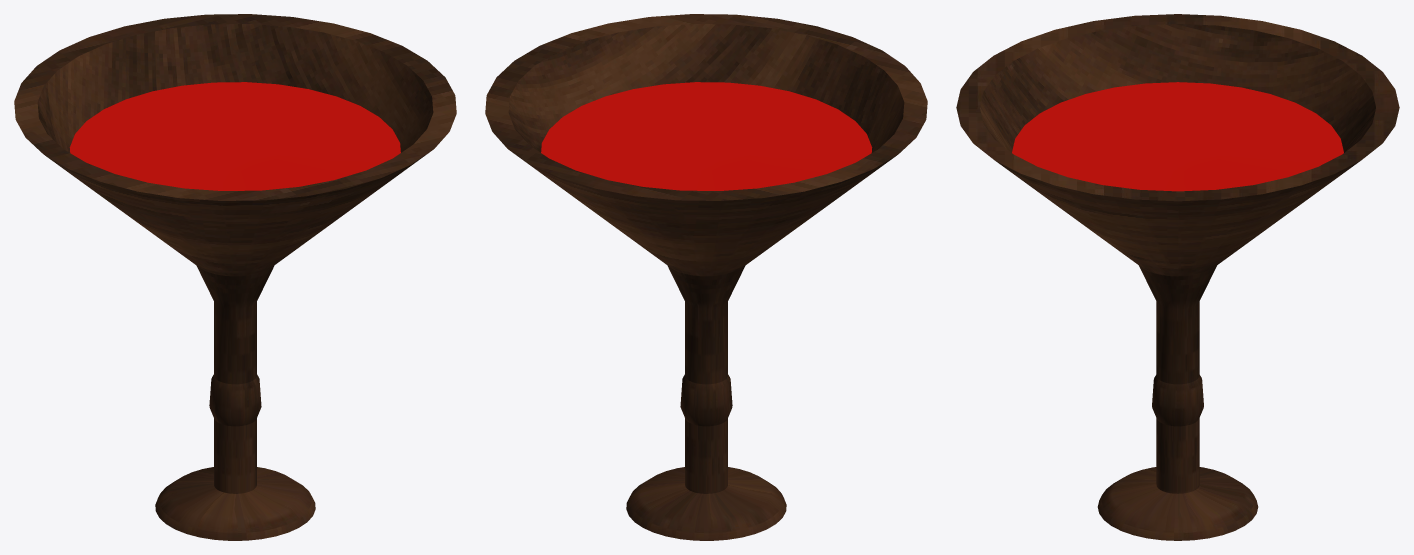
The model's file is Wine.glb.
3 views of the same model, side by side, from view 1: azimuth 30°, elevation 25°; view 2: azimuth 150°, elevation 25°; view 3: azimuth 270°, elevation 25° (orthographic).
Visible parts, largest first — view 1: Cylinder; view 2: Cylinder; view 3: Cylinder.
Boxes of the visible parts, box(x1,y1,x2,y2) form: Cylinder: box(14, 14, 456, 540); Cylinder: box(485, 14, 927, 540); Cylinder: box(956, 14, 1399, 540).
Bounding box in the file's own units: 0.3449 × 0.3432 × 0.3449.
2 materials, 1 textured.
